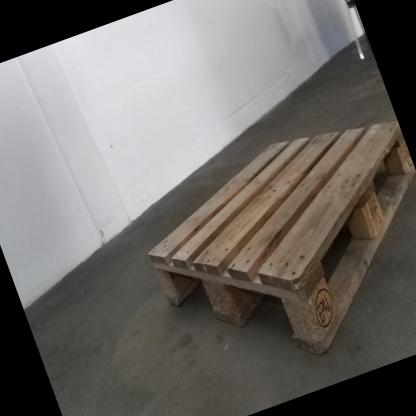BoxFace: (146, 116, 416, 361)
